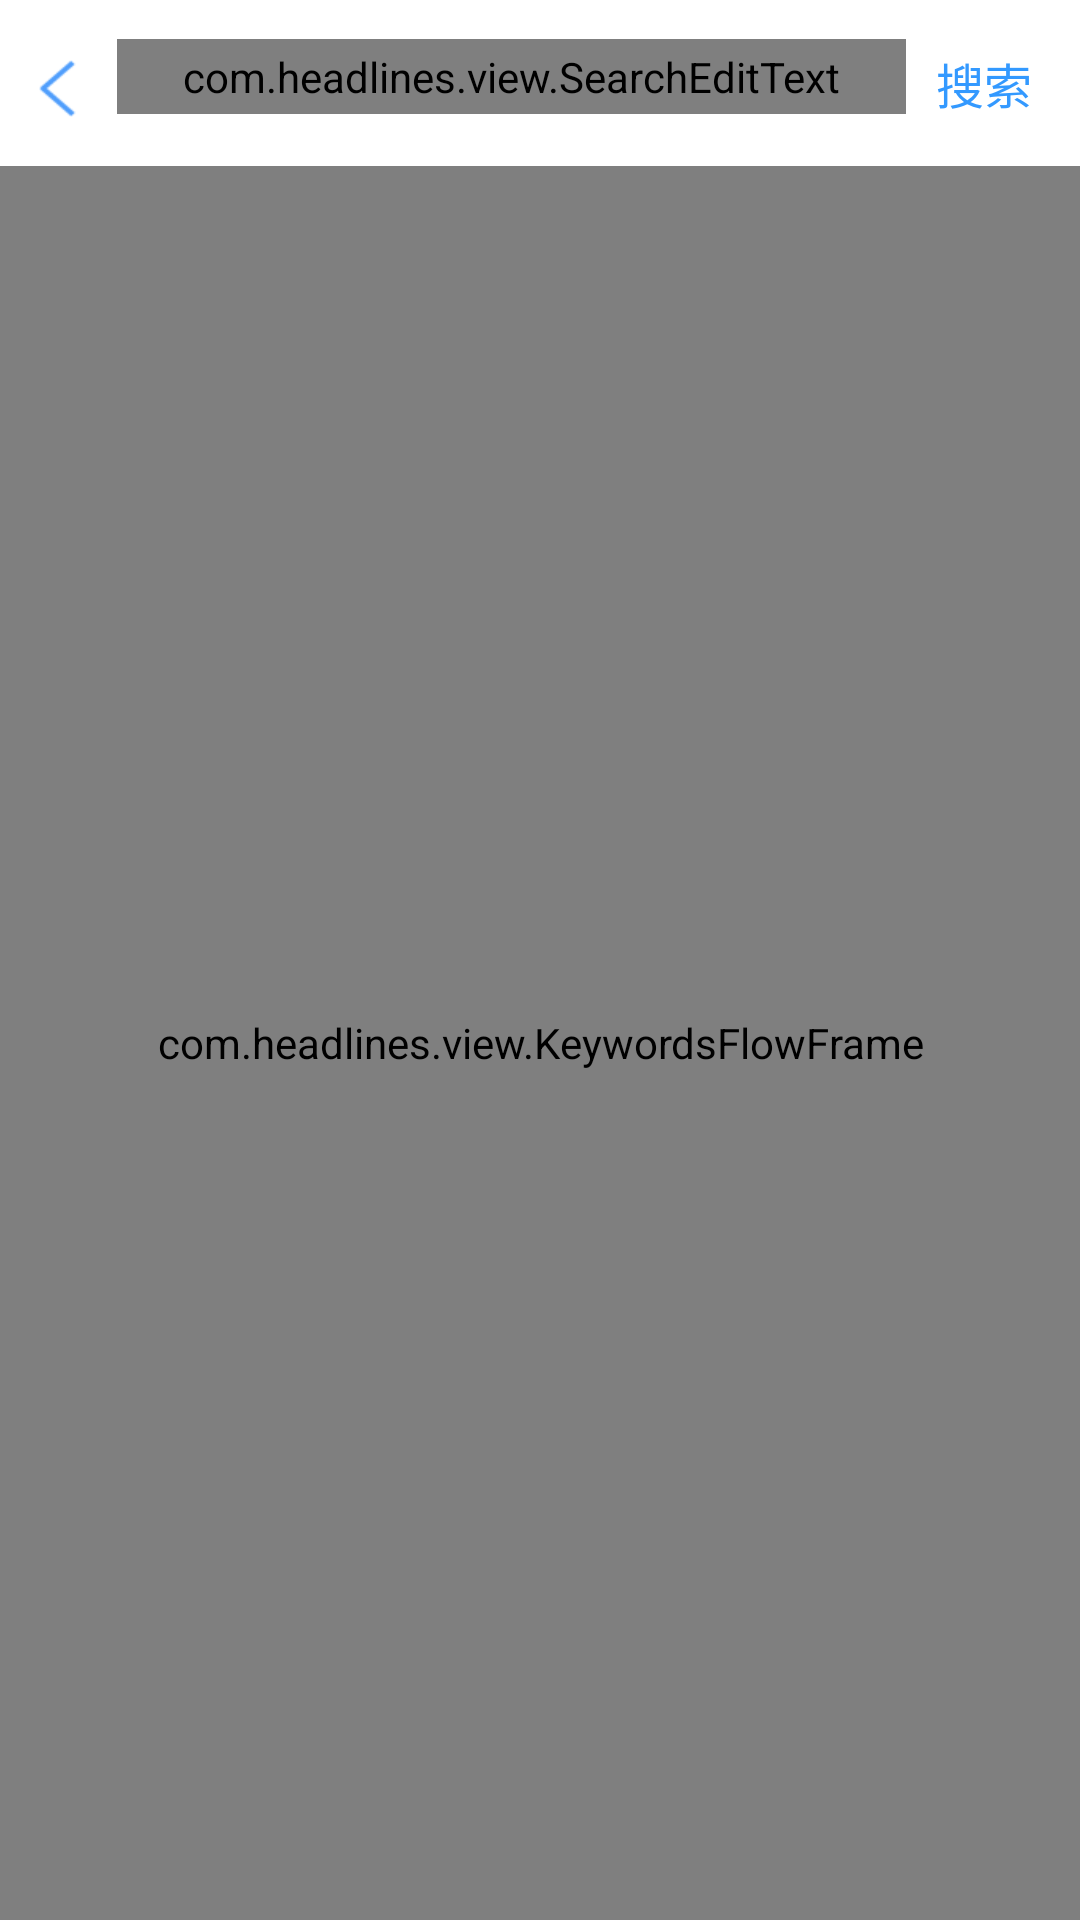

Icon bounding boxes for this 1080w x 1920h phone screenshot, format (x1, y1, x2, y2):
found search return press: (40, 61, 75, 116)
